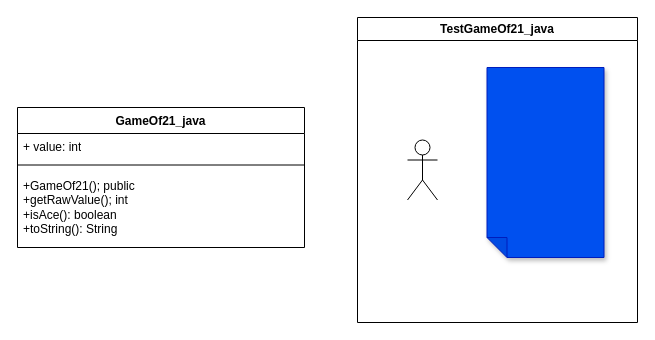
This 655x340 diagram has some shape labels left out. The centre of each missing label's shape, as x and y in pixels:
2-10 value 1 or 11 ace value Jack (10) value Queen (10) value King (10) value: pixel 546 163
card: pixel 422 169
